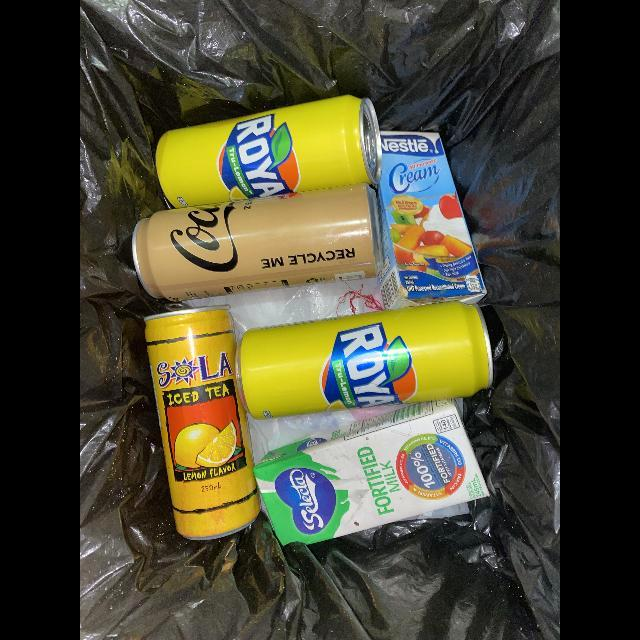aluminum: (236, 301, 492, 420), (131, 183, 382, 303), (142, 306, 261, 543), (155, 95, 382, 209)
